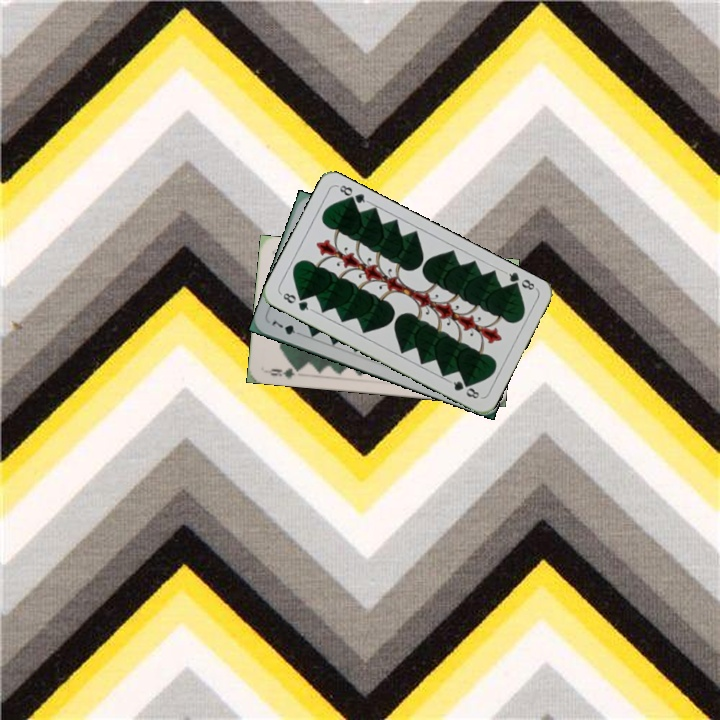G7: (268, 316, 306, 339)
G8: (501, 267, 537, 293), (277, 289, 315, 313)
G9: (262, 362, 303, 382)
